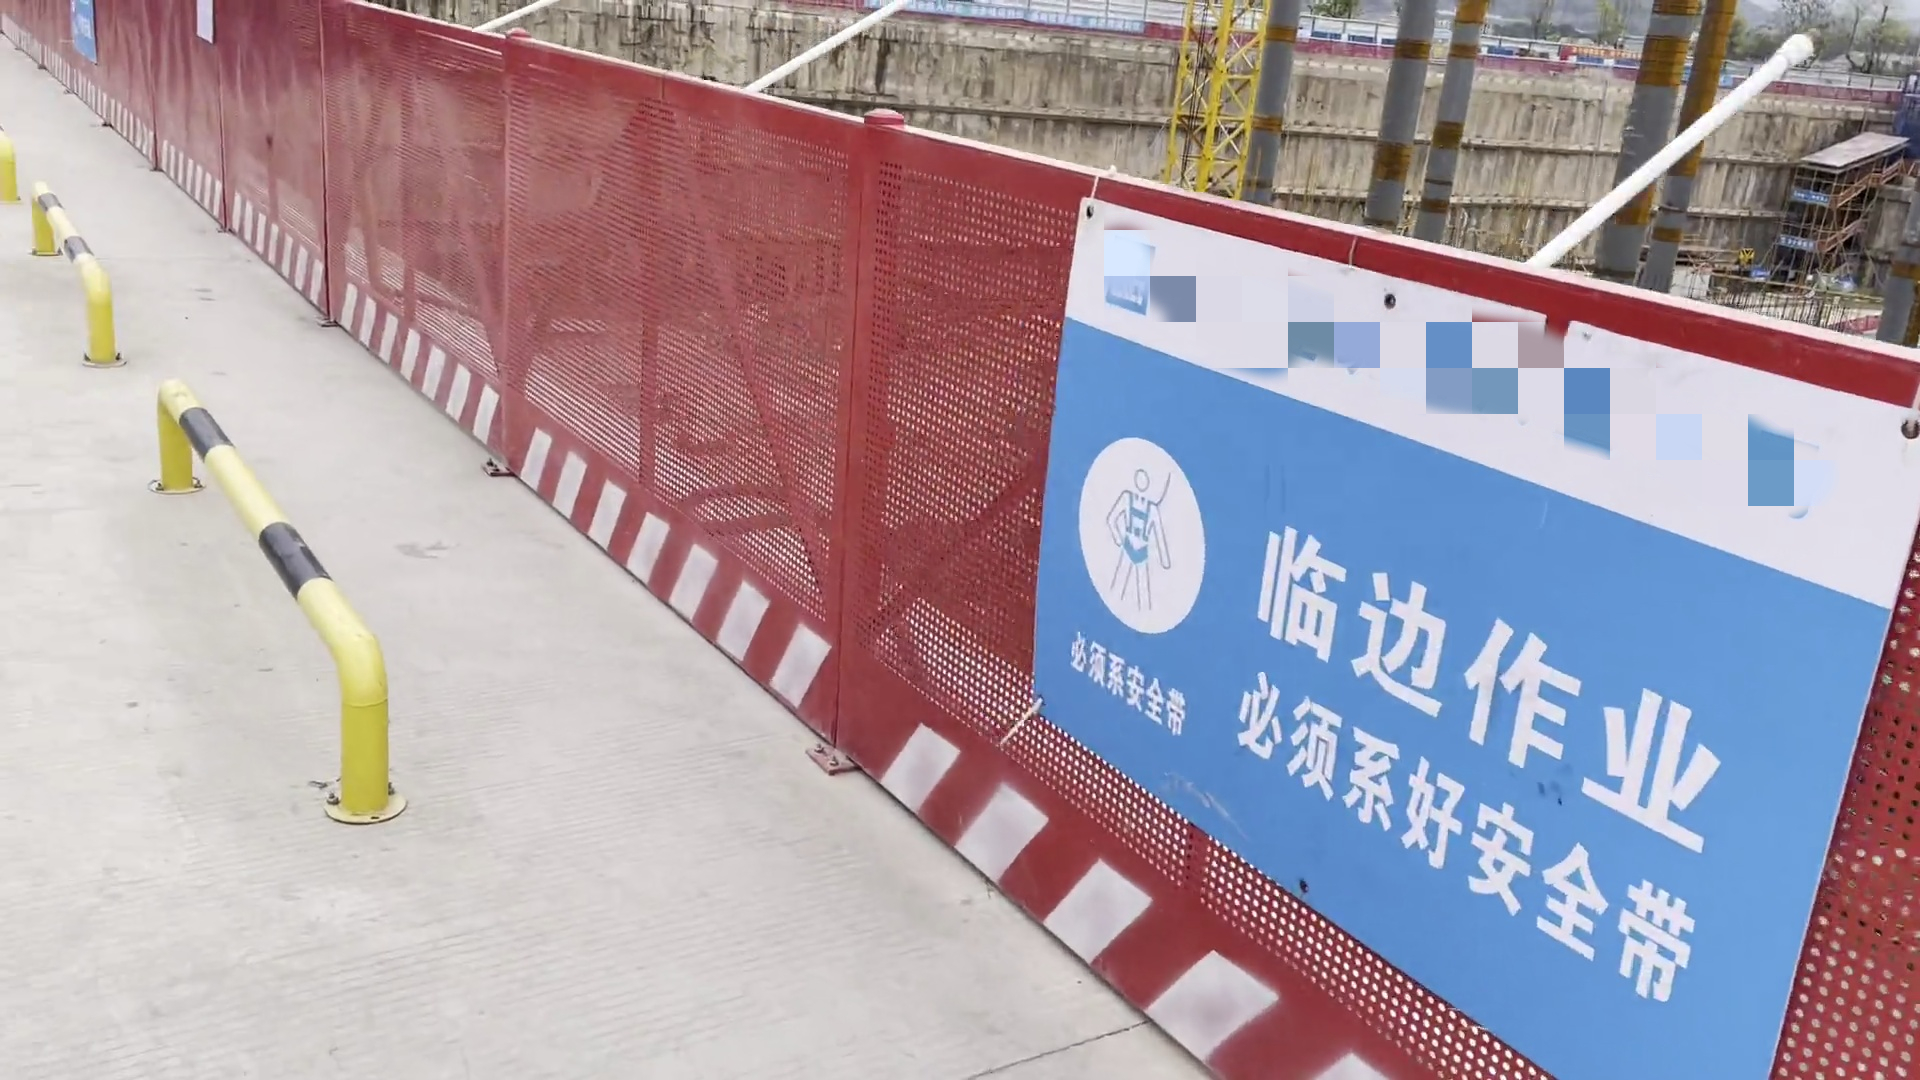fence: (1, 3, 1915, 1080)
